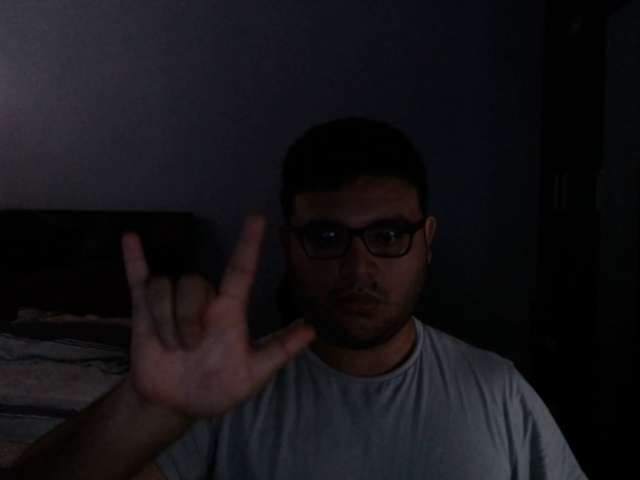I love you: (115, 210, 314, 432)
